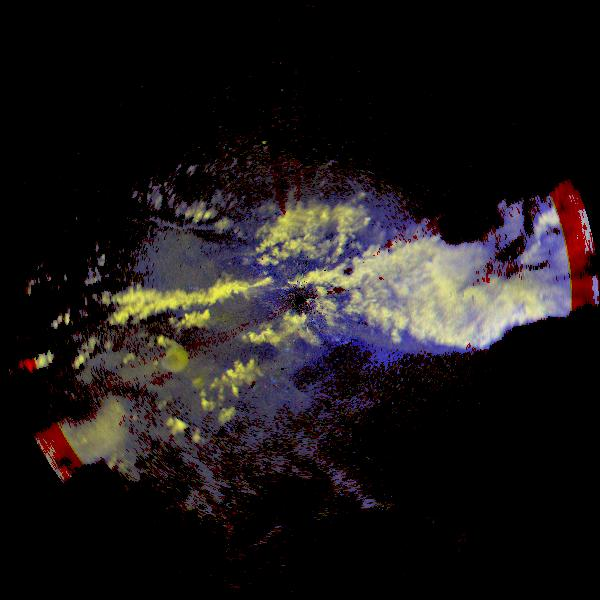roost: (138, 333, 198, 393)
